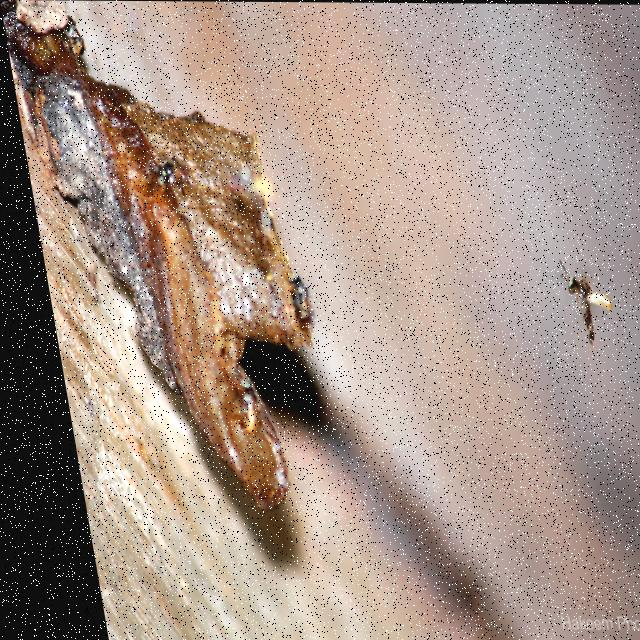Meliponula: (541, 246, 612, 359)
